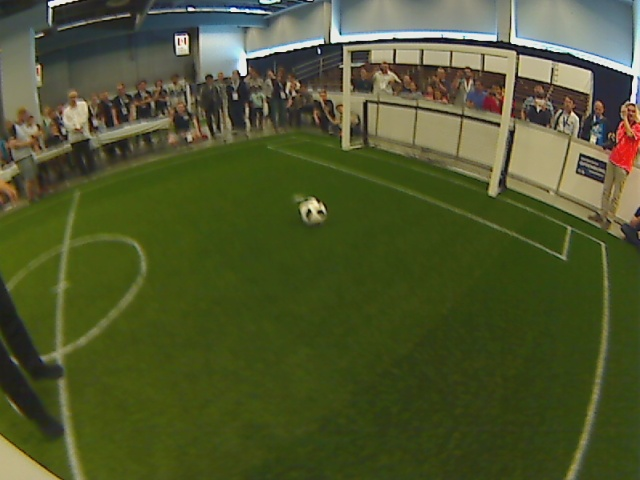ball: (296, 196, 329, 226)
